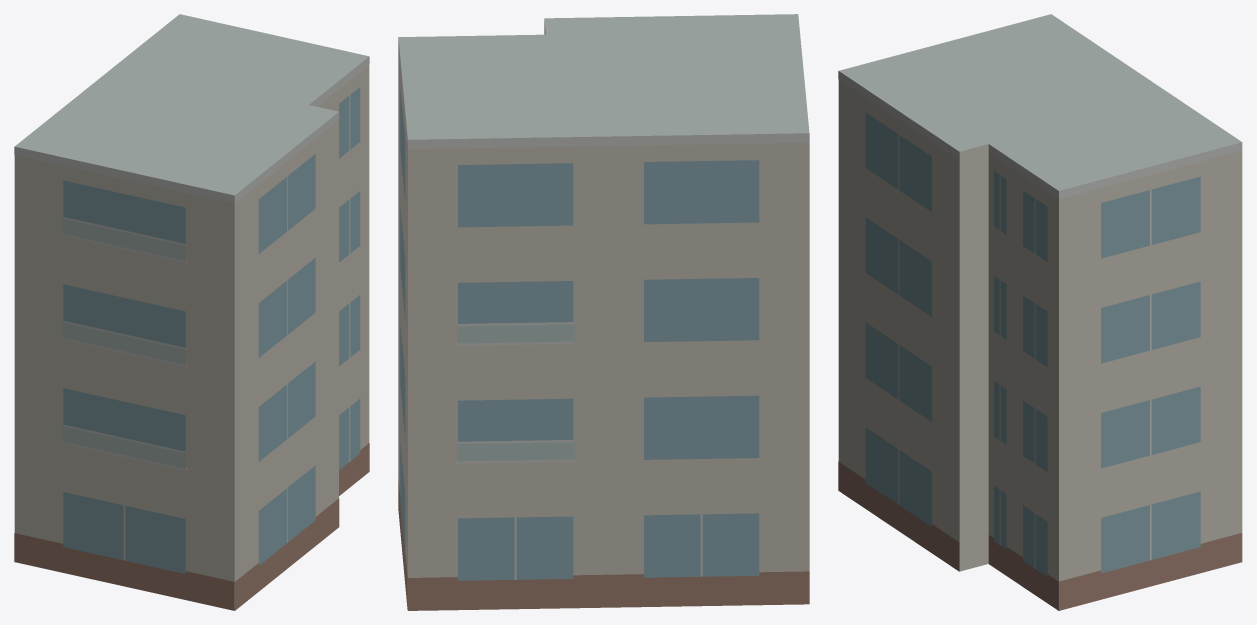
The model's file is residential-fa97b02f-af96-4bfe-8d68-5a4ae339e67b.glb.
3 views of the same model, side by side, from view 1: azimuth 30°, elevation 25°; view 2: azimuth 150°, elevation 25°; view 3: azimuth 270°, elevation 25° (orthographic). The views are drawn at different scales.
Visible parts, largest first — view 1: residential-fa97b02f-af96-4bfe-8d68-5a4ae339e67b.tmp; view 2: residential-fa97b02f-af96-4bfe-8d68-5a4ae339e67b.tmp; view 3: residential-fa97b02f-af96-4bfe-8d68-5a4ae339e67b.tmp.
Part boxes in pixels (x1=…): residential-fa97b02f-af96-4bfe-8d68-5a4ae339e67b.tmp: x1=14, y1=14, x2=369, y2=610; residential-fa97b02f-af96-4bfe-8d68-5a4ae339e67b.tmp: x1=398, y1=14, x2=809, y2=610; residential-fa97b02f-af96-4bfe-8d68-5a4ae339e67b.tmp: x1=838, y1=14, x2=1242, y2=610.
Size of the model in its own units: 11.04 by 12.2 by 10.64.
